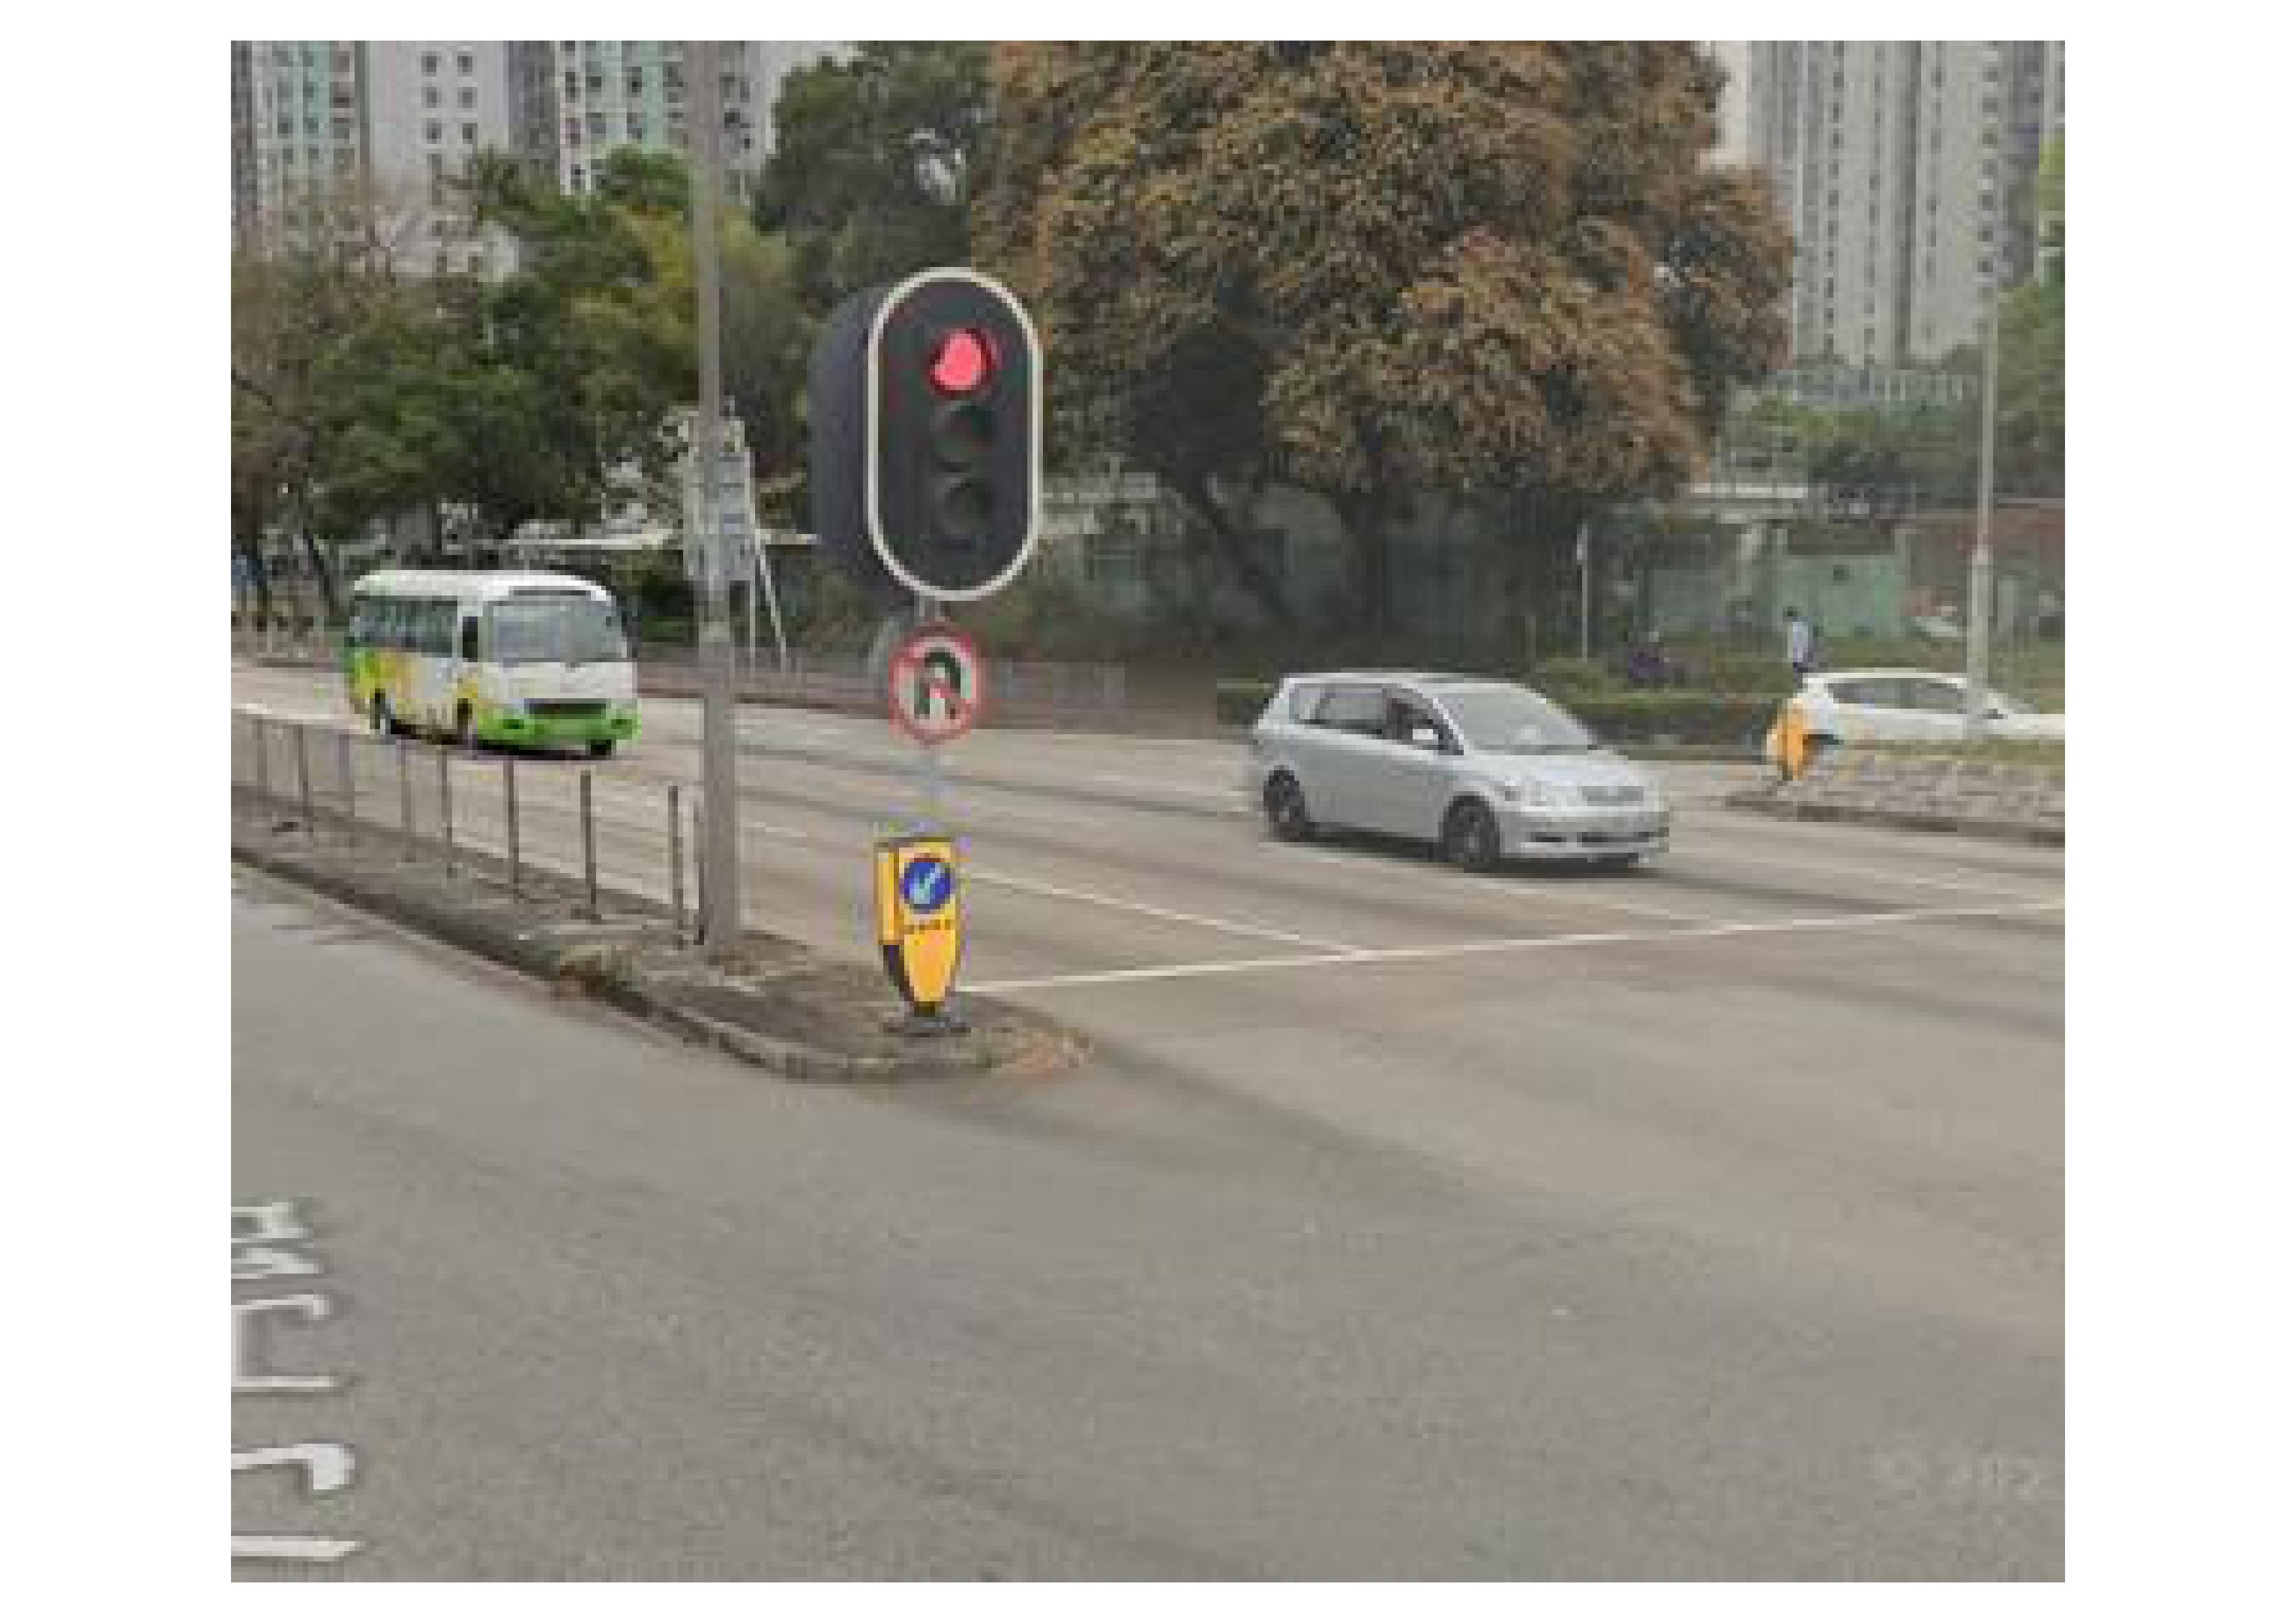No Uturn: (879, 620, 992, 743)
